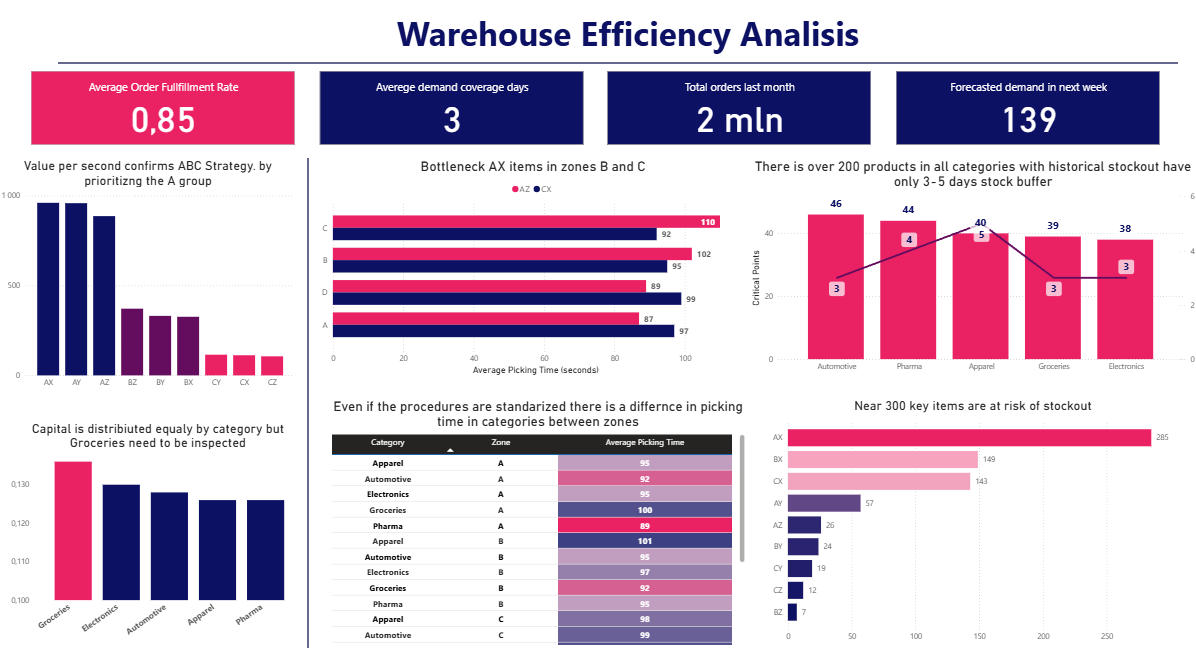

What the dashboard file says about the page in this screenshot:
{"tool":"powerbi","page":{"name":"How the warehouse work","canvas":[1920,1080],"ordinal":0},"visuals":[{"type":"cardVisual","fields":{"Data":["Median(average_demand_cever_days.avg_demand_coverage_days)"]},"box":[509.3,112,432,128.6],"z":0,"group":"g2"},{"type":"clusteredColumnChart","title":"Value per second confirms ABC Strategy. by prioritizng the A group","fields":{"Y":["Sum(value_per_second.value_per_second)"],"Category":["value_per_second.abc_xyz"]},"box":[0,256,480,378],"z":0,"group":"g1"},{"type":"clusteredBarChart","title":"Near 300 key items are at risk of stockout","fields":{"Category":["supplier_lead_gap_analisis.abc_xyz"],"Y":["Sum(supplier_lead_gap_analisis.num_logistics_risk)"]},"box":[1232,640,656,400],"z":1000},{"type":"clusteredColumnChart","title":"Capital is distribiuted equaly by category but Groceries need to be inspected","fields":{"Category":["capital_efficiency_metrics.category"],"Y":["Sum(capital_efficiency_metrics.capital_burden_index)"]},"box":[16,676,480,364],"z":1000,"group":"g1"},{"type":"cardVisual","fields":{"Data":["Avg(suplier_lead_gap.avg_order_fill_rate)"]},"box":[48,112,432,128.6],"z":2000,"group":"g2"},{"type":"lineClusteredColumnComboChart","title":"There is over 200 products in all categories with historical stockout have only 3-5 days stock buffer ","fields":{"Category":["average_demand_cever_days.category"],"Y":["Sum(average_demand_cever_days.critical_points)"],"Y2":["Sum(average_demand_cever_days.avg_demand_coverage_days)"]},"box":[1200,256,720,352],"z":3000},{"type":"clusteredBarChart","title":"Bottleneck AX items in zones B and C","fields":{"Category":["bottleneck_analysis.zone"],"Y":["Sum(bottleneck_analysis.avg_pick_time)"],"Series":["bottleneck_analysis.abc_xyz"]},"box":[512,256,688,352],"z":4000},{"type":"tableEx","title":"Even if the procedures are standarized there is a differnce in picking time in categories between zones","fields":{"Values":["avg_Picking_Time_By_Location.category","avg_Picking_Time_By_Location.zone","avg_Picking_Time_By_Location.avg_pick_time"]},"box":[528,640,672,400],"z":5000},{"type":"textbox","box":[456,0,1104,96],"z":6000},{"type":"shape","box":[96,64,1792,80],"z":7000},{"type":"group","id":"g1","title":"Grupa 2","box":[0,256,496,784],"z":8000},{"type":"shape","box":[464,256,64,784],"z":9000},{"type":"cardVisual","fields":{"Data":["Sum(logistics_dataset.total_orders_last_month)"]},"box":[970.7,112,432,128.6],"z":10000,"group":"g2"},{"type":"cardVisual","fields":{"Data":["Avg(logistics_dataset.f_dem_7)"]},"box":[1432,112,432,128.6],"z":11000,"group":"g2"},{"type":"group","id":"g2","title":"Grupa 1","box":[48,112,1824,120],"z":11001}]}

Visuals, with their boxes in screenshot pixels (x1, y1, x2, y2), scaled from the page's 1920x1080 canvas onto the 1196x666 screenshot:
cardVisual - Median(average_demand_cever_days.avg_demand_coverage_days): 317,69,586,148
"Value per second confirms ABC Strategy. by prioritizng the A group" clusteredColumnChart: 0,158,299,391
"Near 300 key items are at risk of stockout" clusteredBarChart: 767,395,1176,641
"Capital is distribiuted equaly by category but Groceries need to be inspected" clusteredColumnChart: 10,417,309,641
cardVisual - Avg(suplier_lead_gap.avg_order_fill_rate): 30,69,299,148
"There is over 200 products in all categories with historical stockout have only 3-5 days stock buffer " lineClusteredColumnComboChart: 748,158,1195,375
"Bottleneck AX items in zones B and C" clusteredBarChart: 319,158,748,375
"Even if the procedures are standarized there is a differnce in picking time in categories between zones" tableEx: 329,395,748,641
textbox: 284,0,972,59
shape: 60,39,1176,89
"Grupa 2" group: 0,158,309,641
shape: 289,158,329,641
cardVisual - Sum(logistics_dataset.total_orders_last_month): 605,69,874,148
cardVisual - Avg(logistics_dataset.f_dem_7): 892,69,1161,148
"Grupa 1" group: 30,69,1166,143
